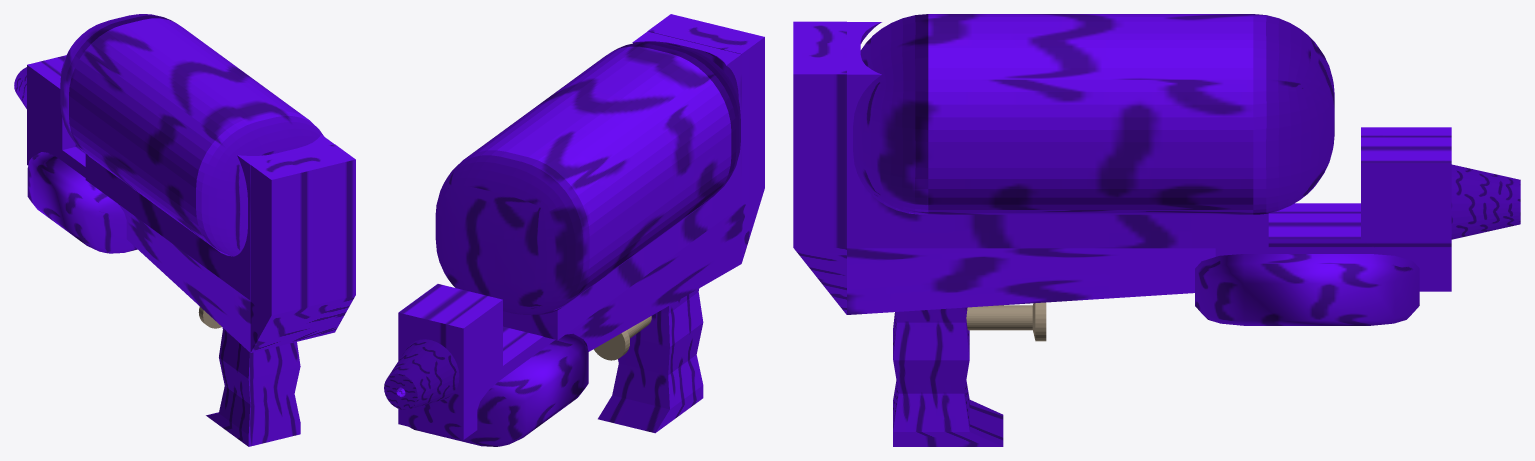
The model's file is item-watergun.glb.
3 views of the same model, side by side, from view 1: azimuth 30°, elevation 25°; view 2: azimuth 150°, elevation 25°; view 3: azimuth 270°, elevation 25° (orthographic). The views are drawn at different scales.
Size of the model in its own units: 2 by 4.64 by 7.59.
Materials: 2 (1 with a texture image).
